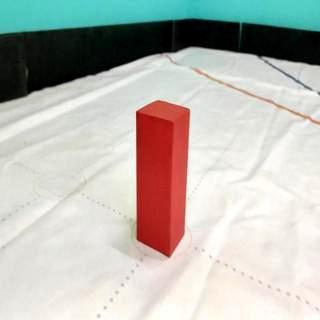redbox: (136, 98, 190, 258)
